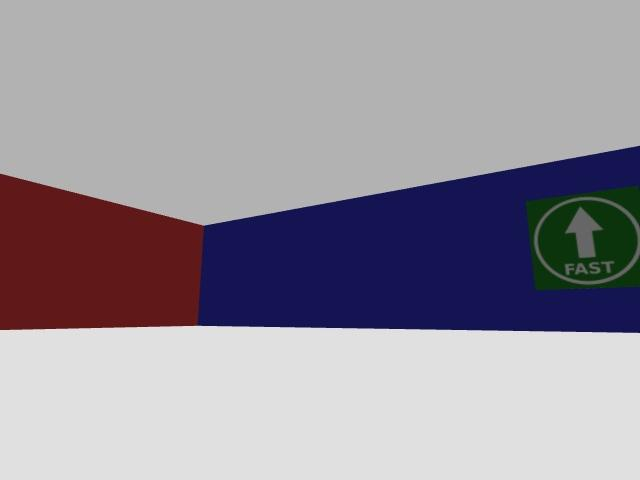fast: (527, 187, 639, 289)
